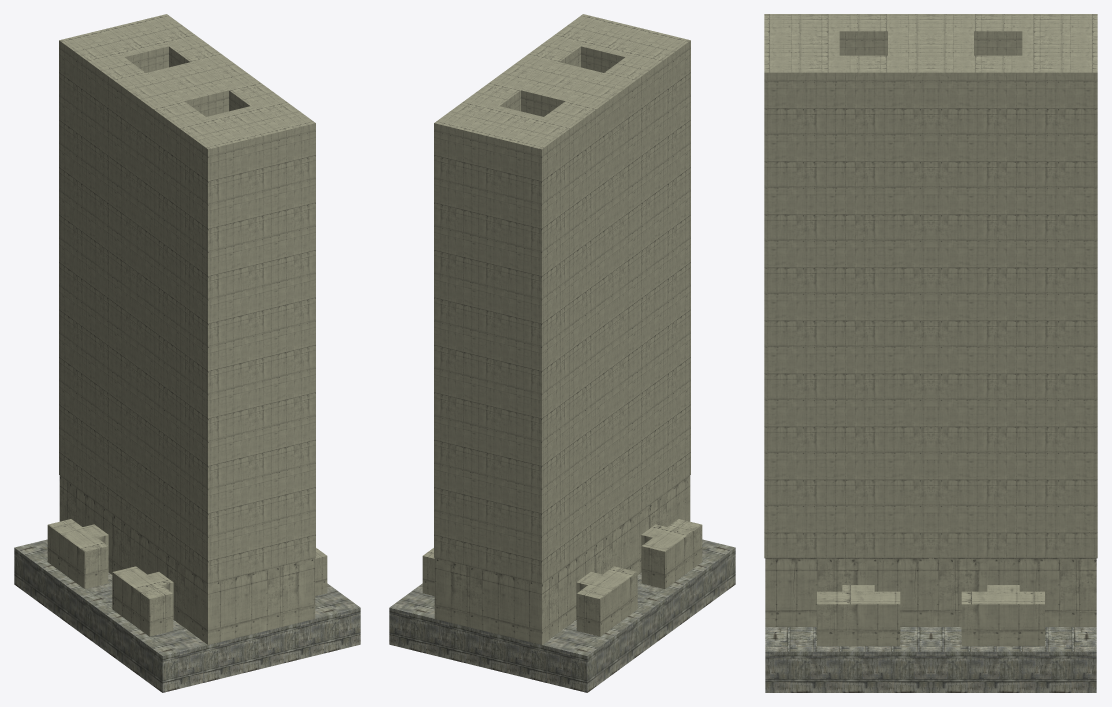
Rendered from SM_Corridor_06_00.fbx.
3 renders of one model, left to right at view 1: azimuth 30°, elevation 25°; view 2: azimuth 150°, elevation 25°; view 3: azimuth 270°, elevation 25°, orthographic. The views are drawn at different scales.
Parts seen in each view (by area): view 1: SM_Corridor_06_00; view 2: SM_Corridor_06_00; view 3: SM_Corridor_06_00.
Boxes of the visible parts, <box> form: SM_Corridor_06_00: <box>14,14,360,692</box>; SM_Corridor_06_00: <box>389,14,735,692</box>; SM_Corridor_06_00: <box>764,14,1097,692</box>.
Size of the model in its own units: 1971 by 5060 by 2566.
